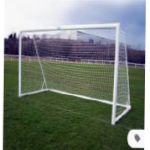goals: (16, 23, 132, 124)
